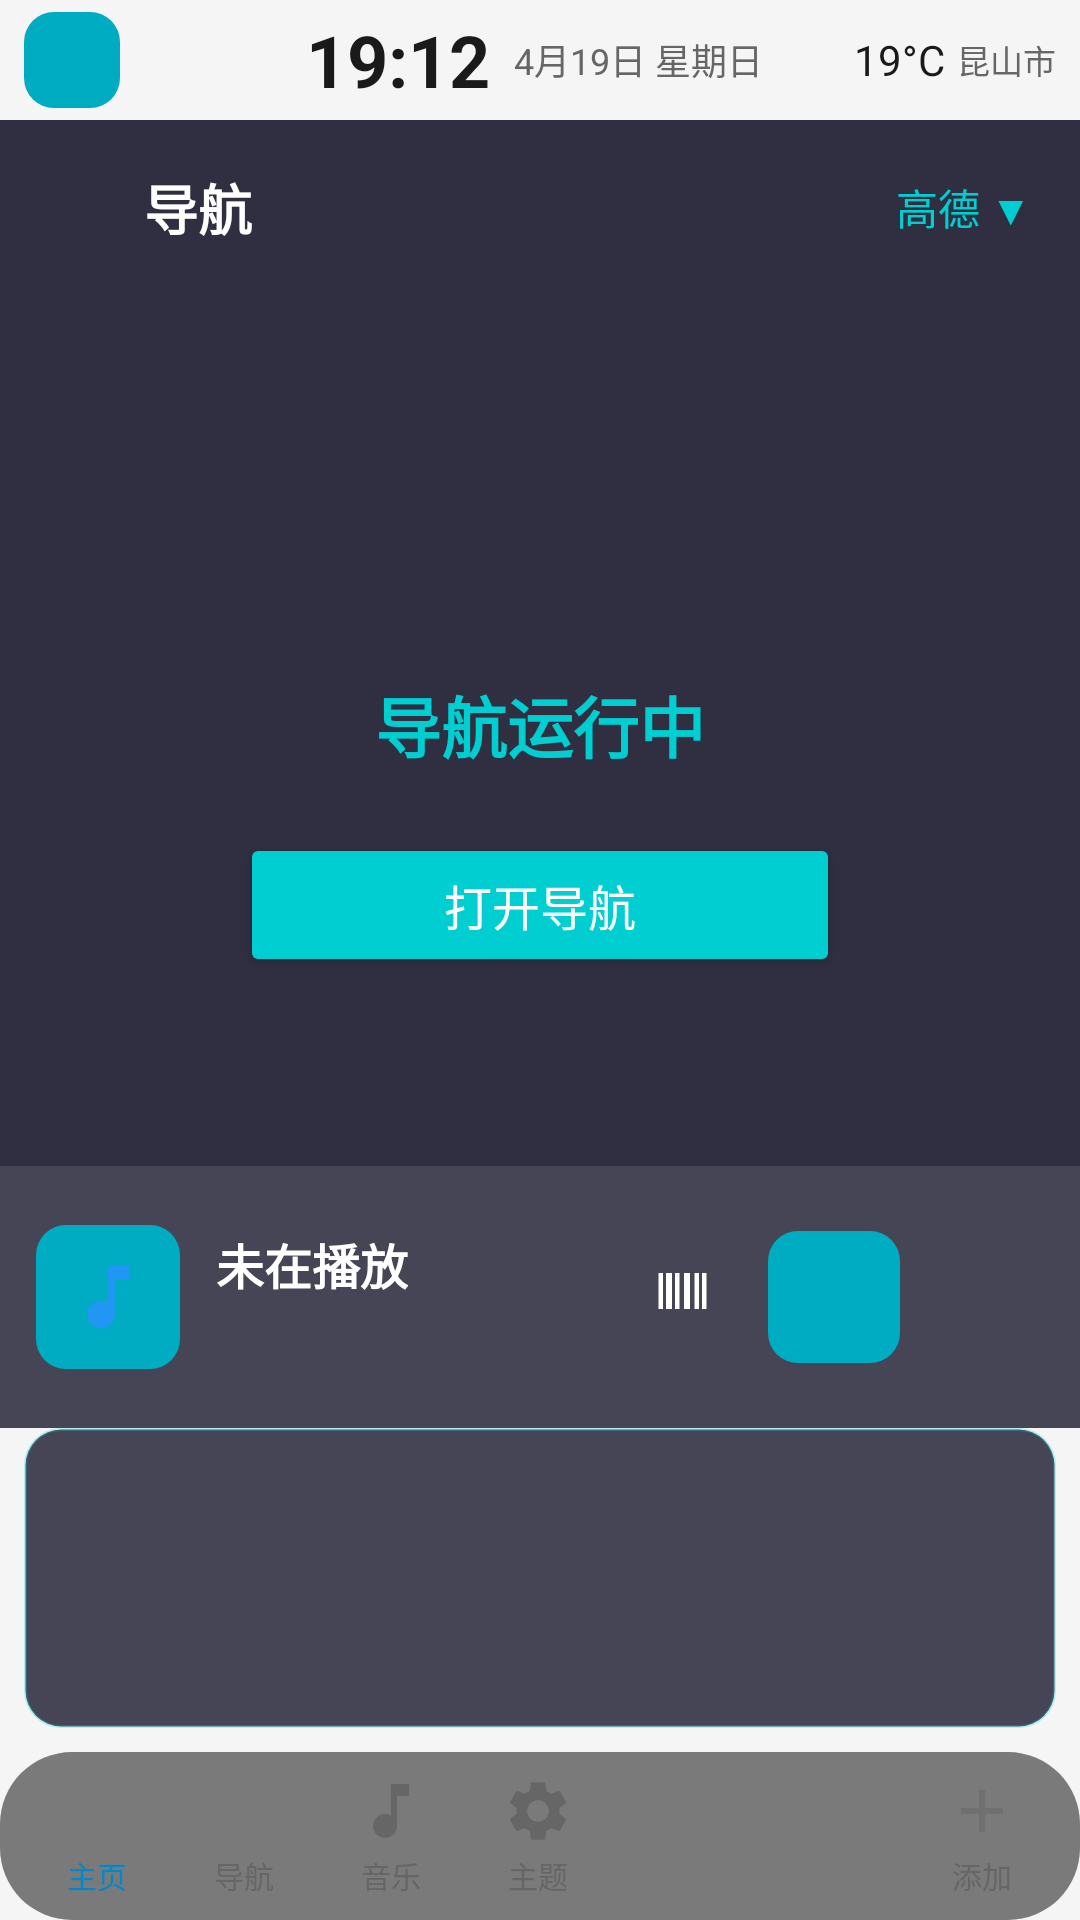

Screen size 1080px x 1920px. Icon name, then its box in pixels as box=[x1, y1, x2, y2]:
music: box=[36, 1225, 180, 1369]
